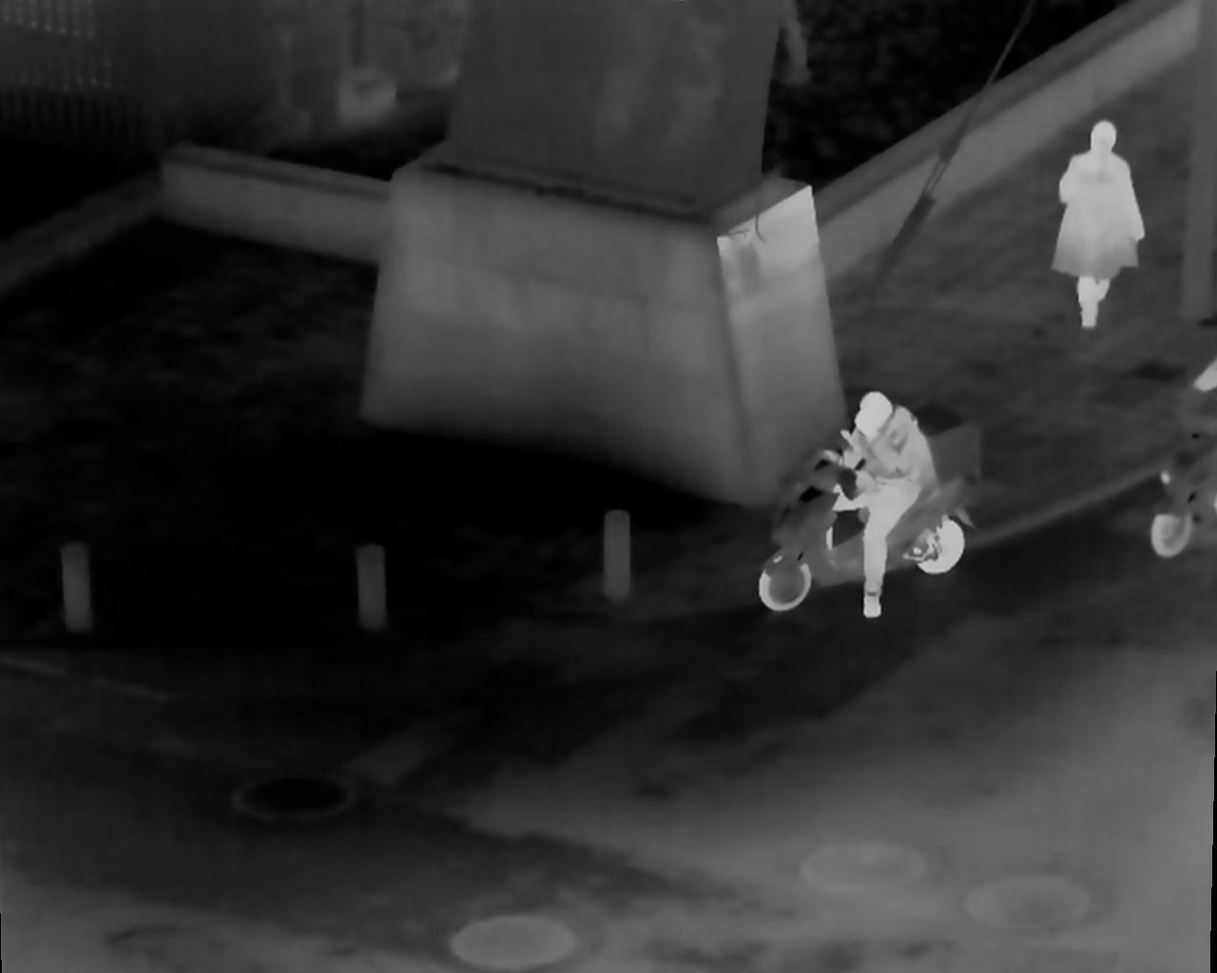person: (844, 392, 932, 625), (1055, 126, 1142, 322)
